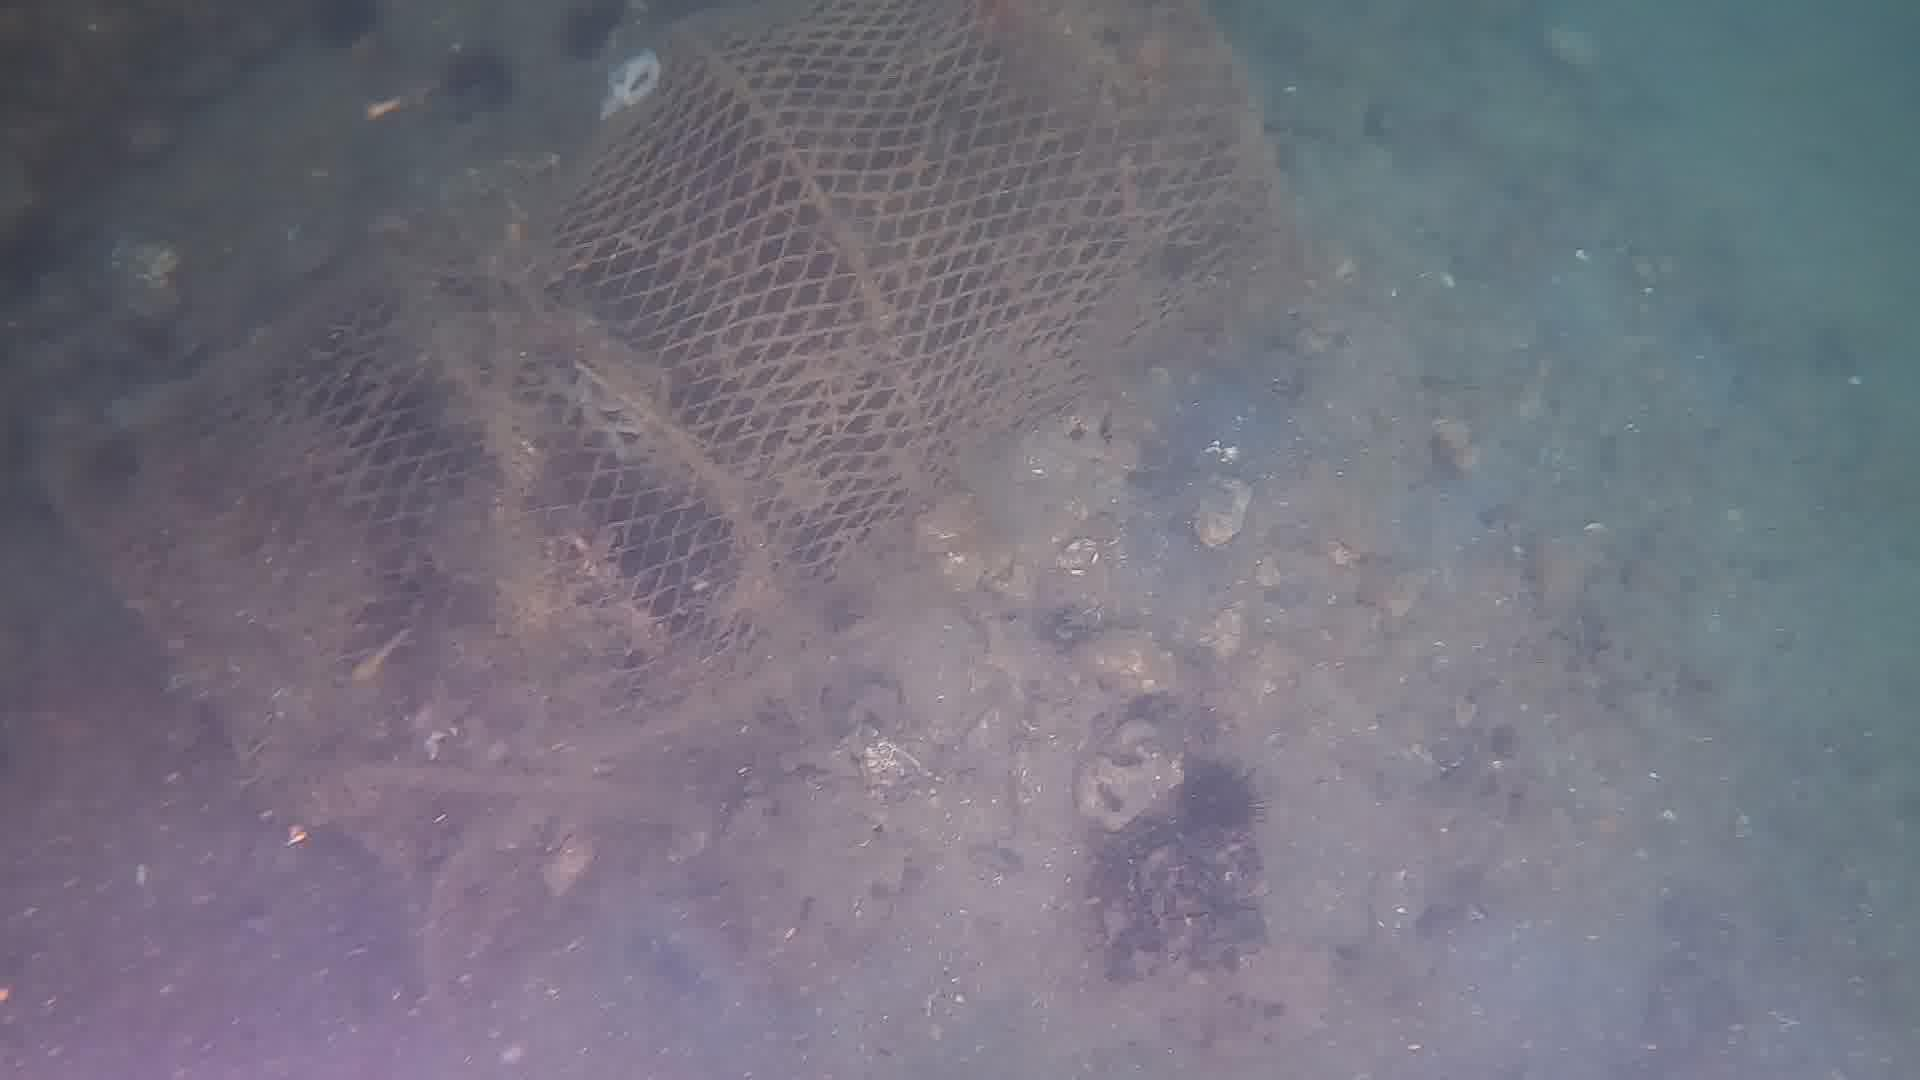spring fish trap: (33, 0, 1299, 877)
